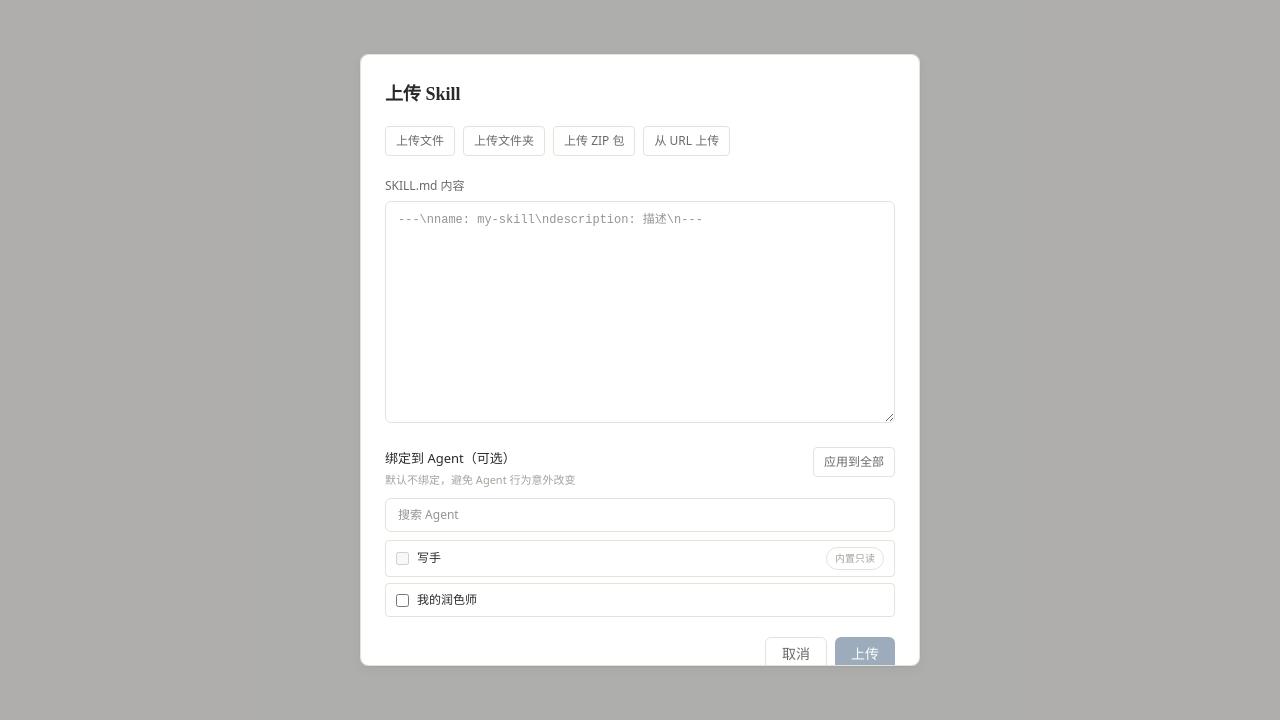
SkillUploadDialog — 绑定区（D1） › 搜索框按 name 过滤候选
This screenshot has width=1280, height=720.
Expected: the text "我的润色师" is shown, [385, 583, 895, 618]
Type "润色" into the field with test id "skill-bind-search" at (640, 515), box [385, 498, 895, 532]
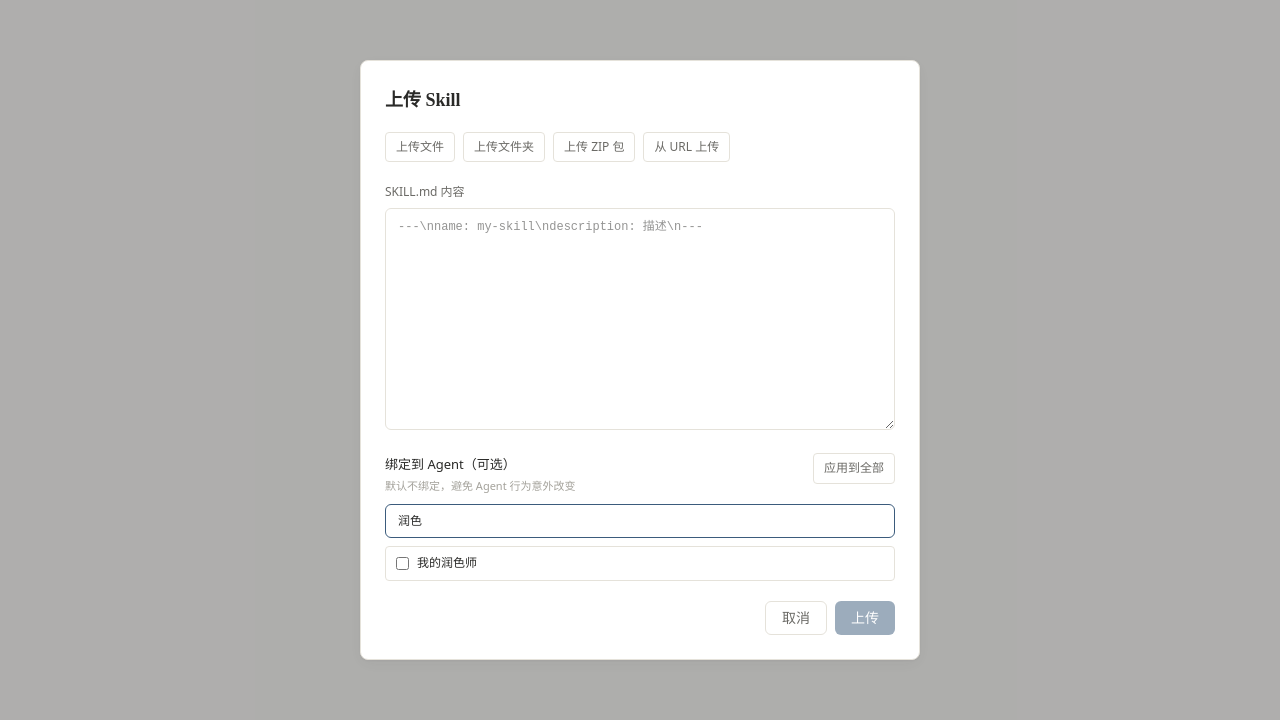
Expected: the text "我的润色师" is shown, [385, 546, 895, 581]
Expected: the label with test id "skill-bind-agent-1" is gone
